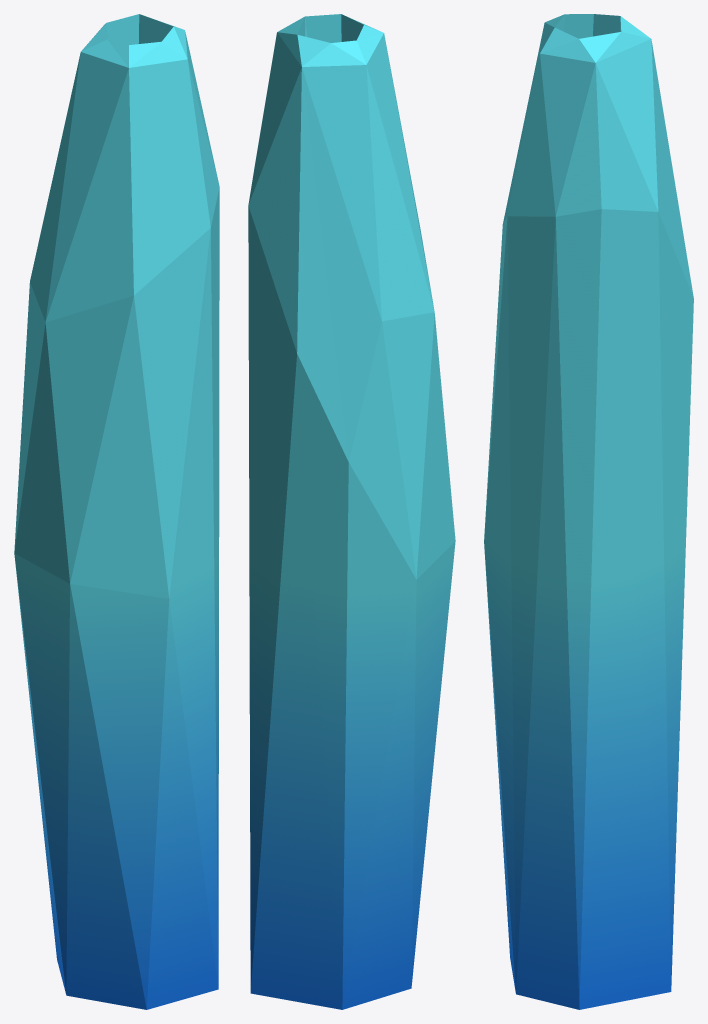
The model's file is SM_Spongia_1.fbx.
3 views of the same model, side by side, from view 1: azimuth 30°, elevation 25°; view 2: azimuth 150°, elevation 25°; view 3: azimuth 270°, elevation 25° (orthographic).
Visible parts, largest first — view 1: Spongia_1; view 2: Spongia_1; view 3: Spongia_1.
Part boxes in pixels (box(x1,y1,x2,y2)): Spongia_1: box(14, 14, 219, 1009); Spongia_1: box(248, 14, 455, 1009); Spongia_1: box(484, 14, 693, 1009).
Bounding box in the file's own units: 19.79 × 99 × 19.84.
